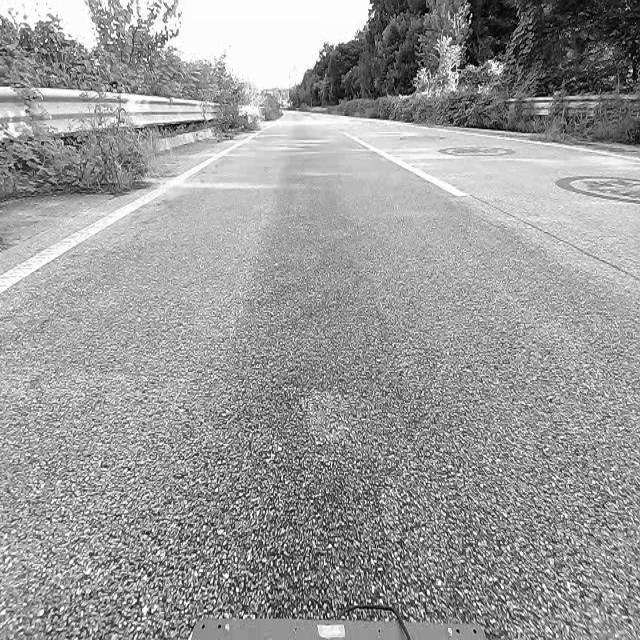Lane: (0, 127, 268, 307), (0, 140, 249, 294), (328, 117, 477, 207), (344, 133, 468, 197)
